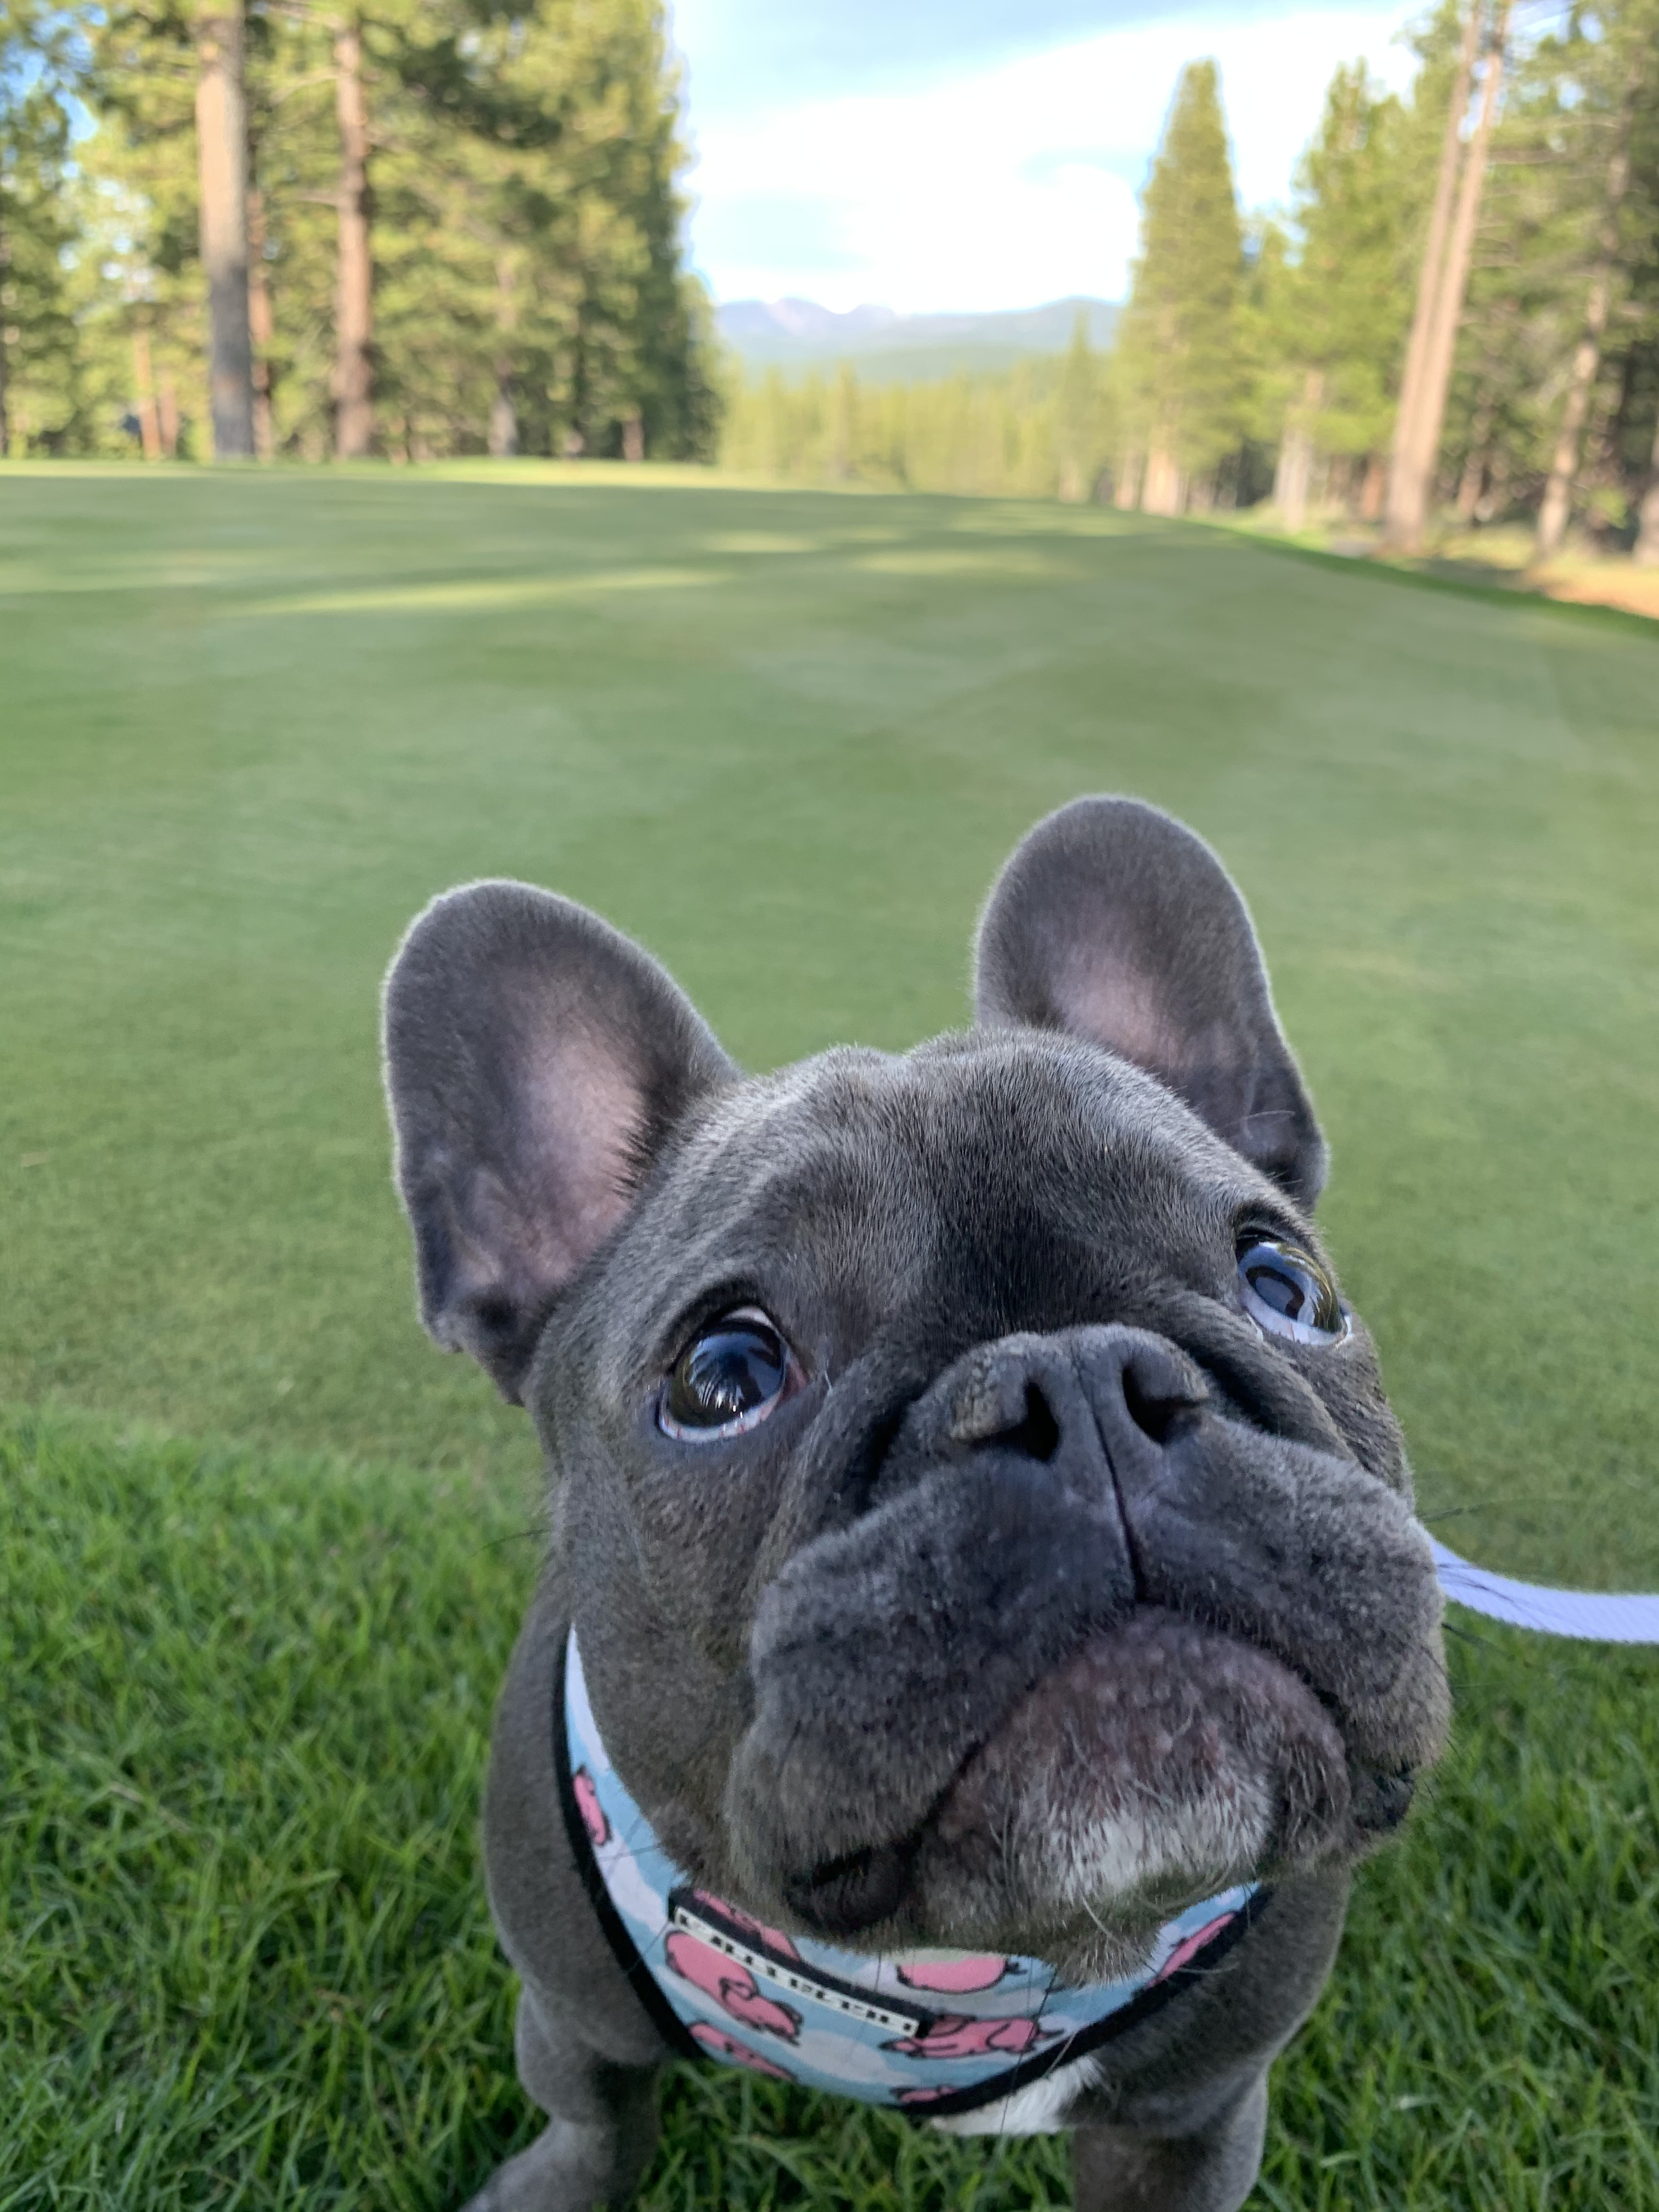lucy: (375, 789, 1460, 2209)
